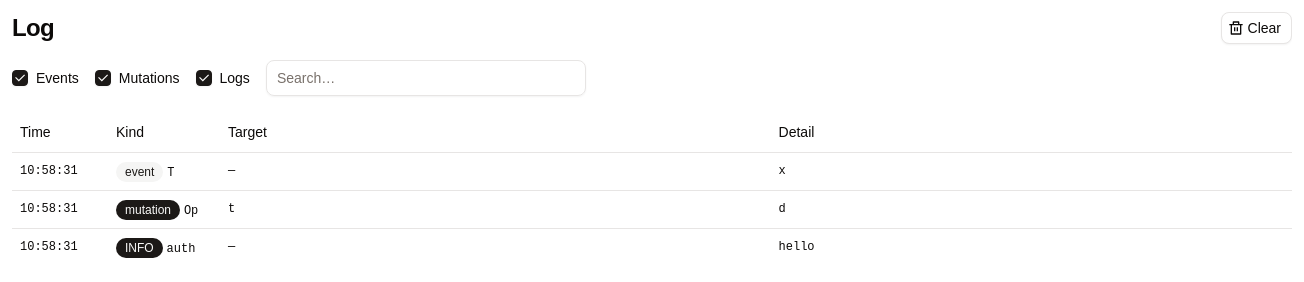
it: Log screen › filters by kind via the checkbox
Expected: the text "Op" is shown, [184, 204, 198, 218]
Expected: the text "hello" is shown, [771, 228, 1292, 266]
Order: Events, Mutations, Logs.
Click the checkbox next to "Mutations". click: (103,78)
box: [95, 70, 111, 86]
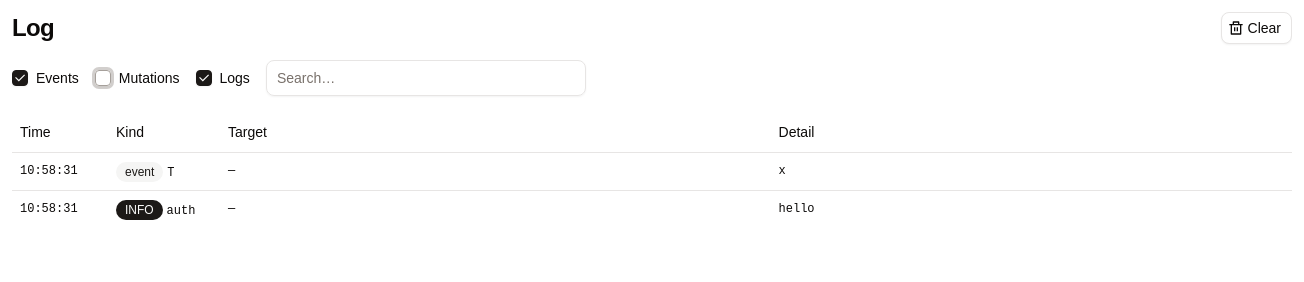
Expected: the text "Op" is gone
Click the checkbox next to "Logs". click: (204,78)
box: [196, 70, 212, 86]
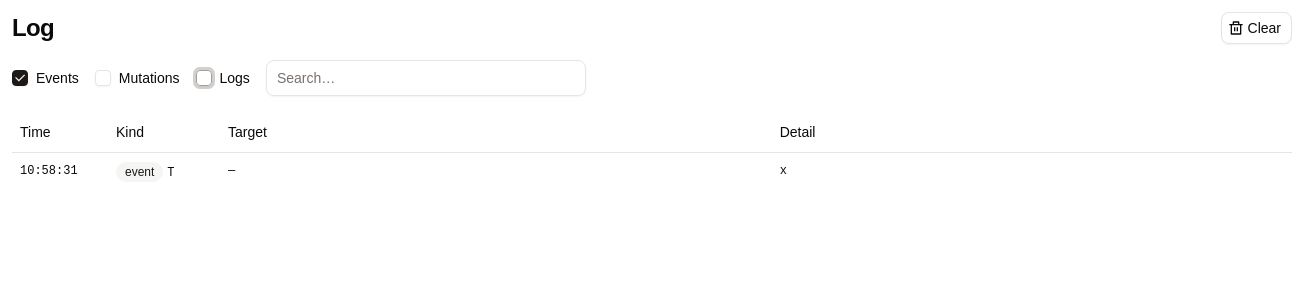
Expected: the text "hello" is gone
